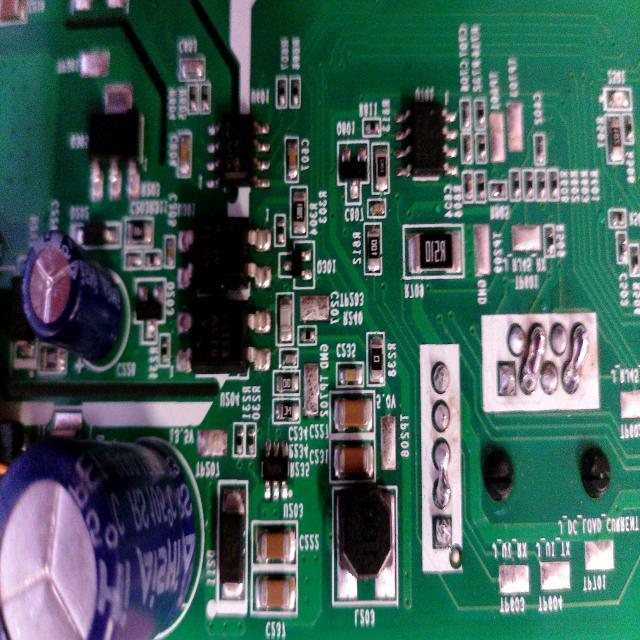Soldering bridge: (561, 308, 592, 405), (519, 316, 549, 406), (430, 439, 456, 514)
